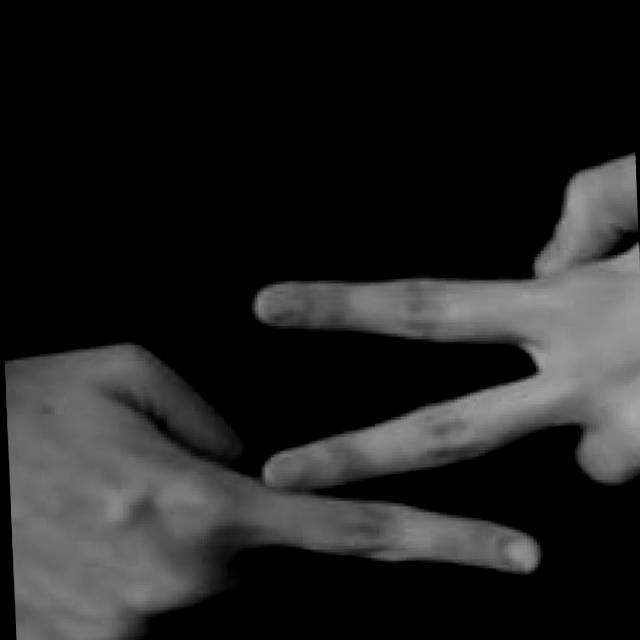Z: (1, 110, 640, 640)
